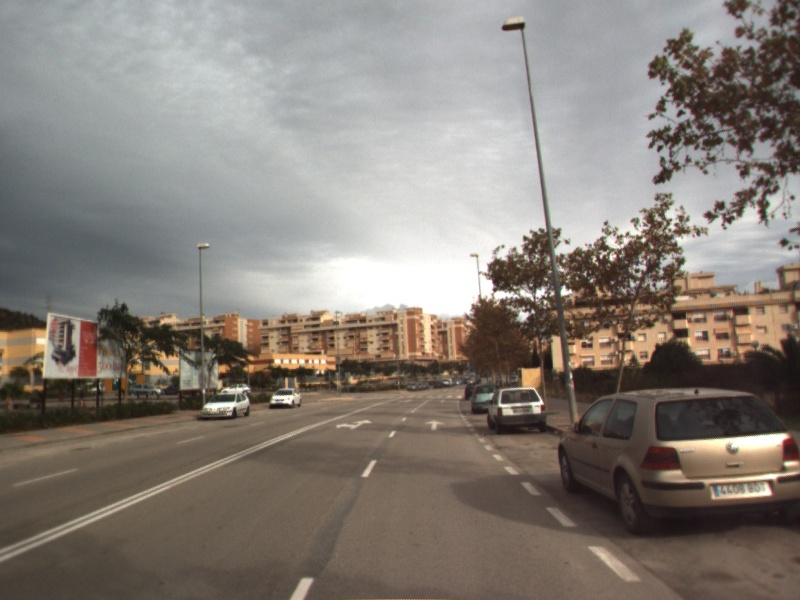STRAIGHT: (423, 417, 447, 432)
STRAIGHT_LEFT: (333, 417, 374, 432)
